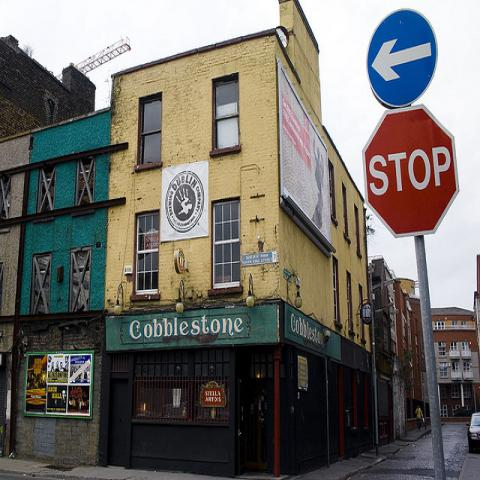car: (466, 412, 479, 454)
